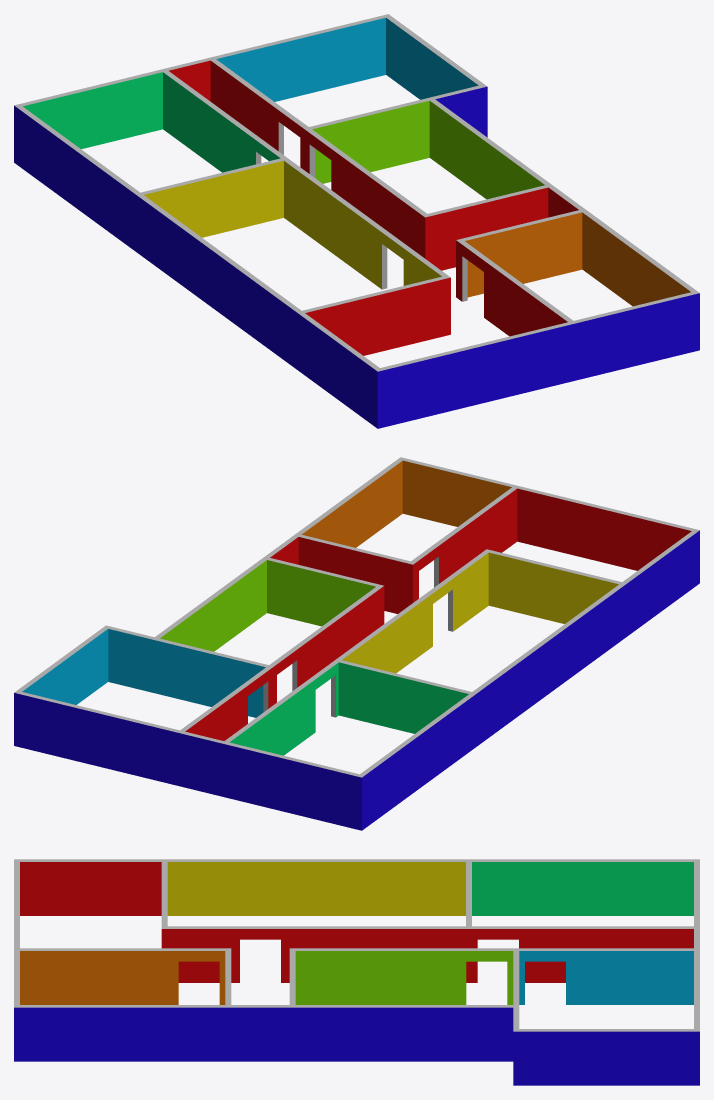
The model's file is House Floor 2.fbx.
3 views of the same model, one above another, from view 1: azimuth 30°, elevation 25°; view 2: azimuth 150°, elevation 25°; view 3: azimuth 270°, elevation 25° (orthographic). The views are drawn at different scales.
Parts seen in each view (by area): view 1: pasted__polySurface37; view 2: pasted__polySurface37; view 3: pasted__polySurface37.
Boxes of the visible parts, box(x1,y1,x2,y2) form: pasted__polySurface37: box(14, 14, 699, 428); pasted__polySurface37: box(14, 457, 699, 830); pasted__polySurface37: box(14, 859, 699, 1085).
Size of the model in its own units: 1713 by 250 by 2882.
